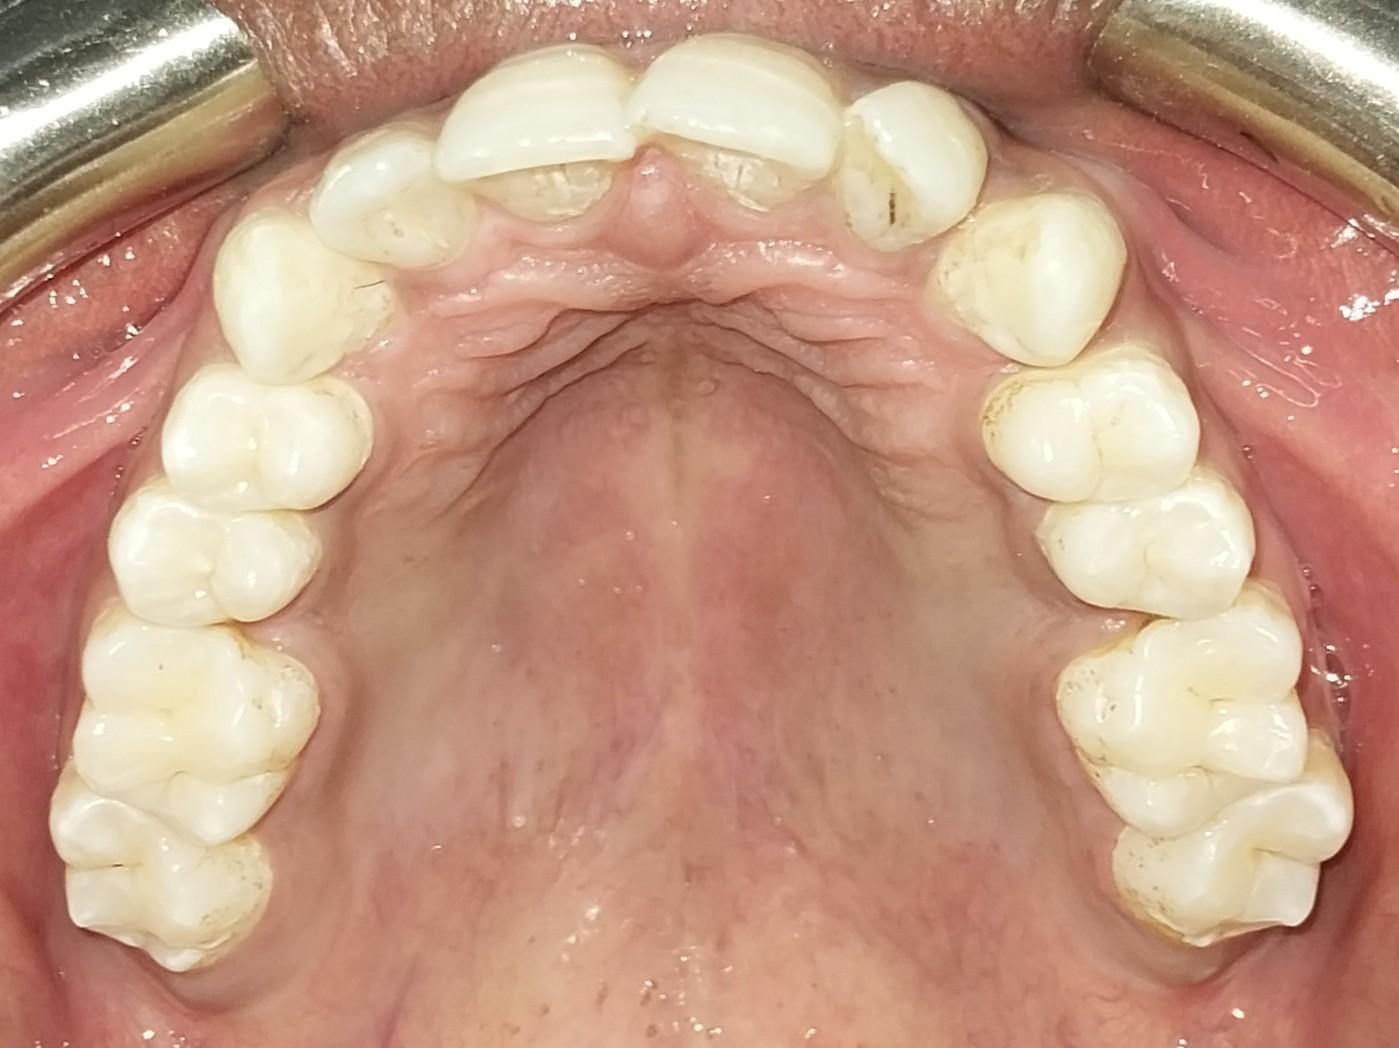D: (843, 74, 988, 253)
